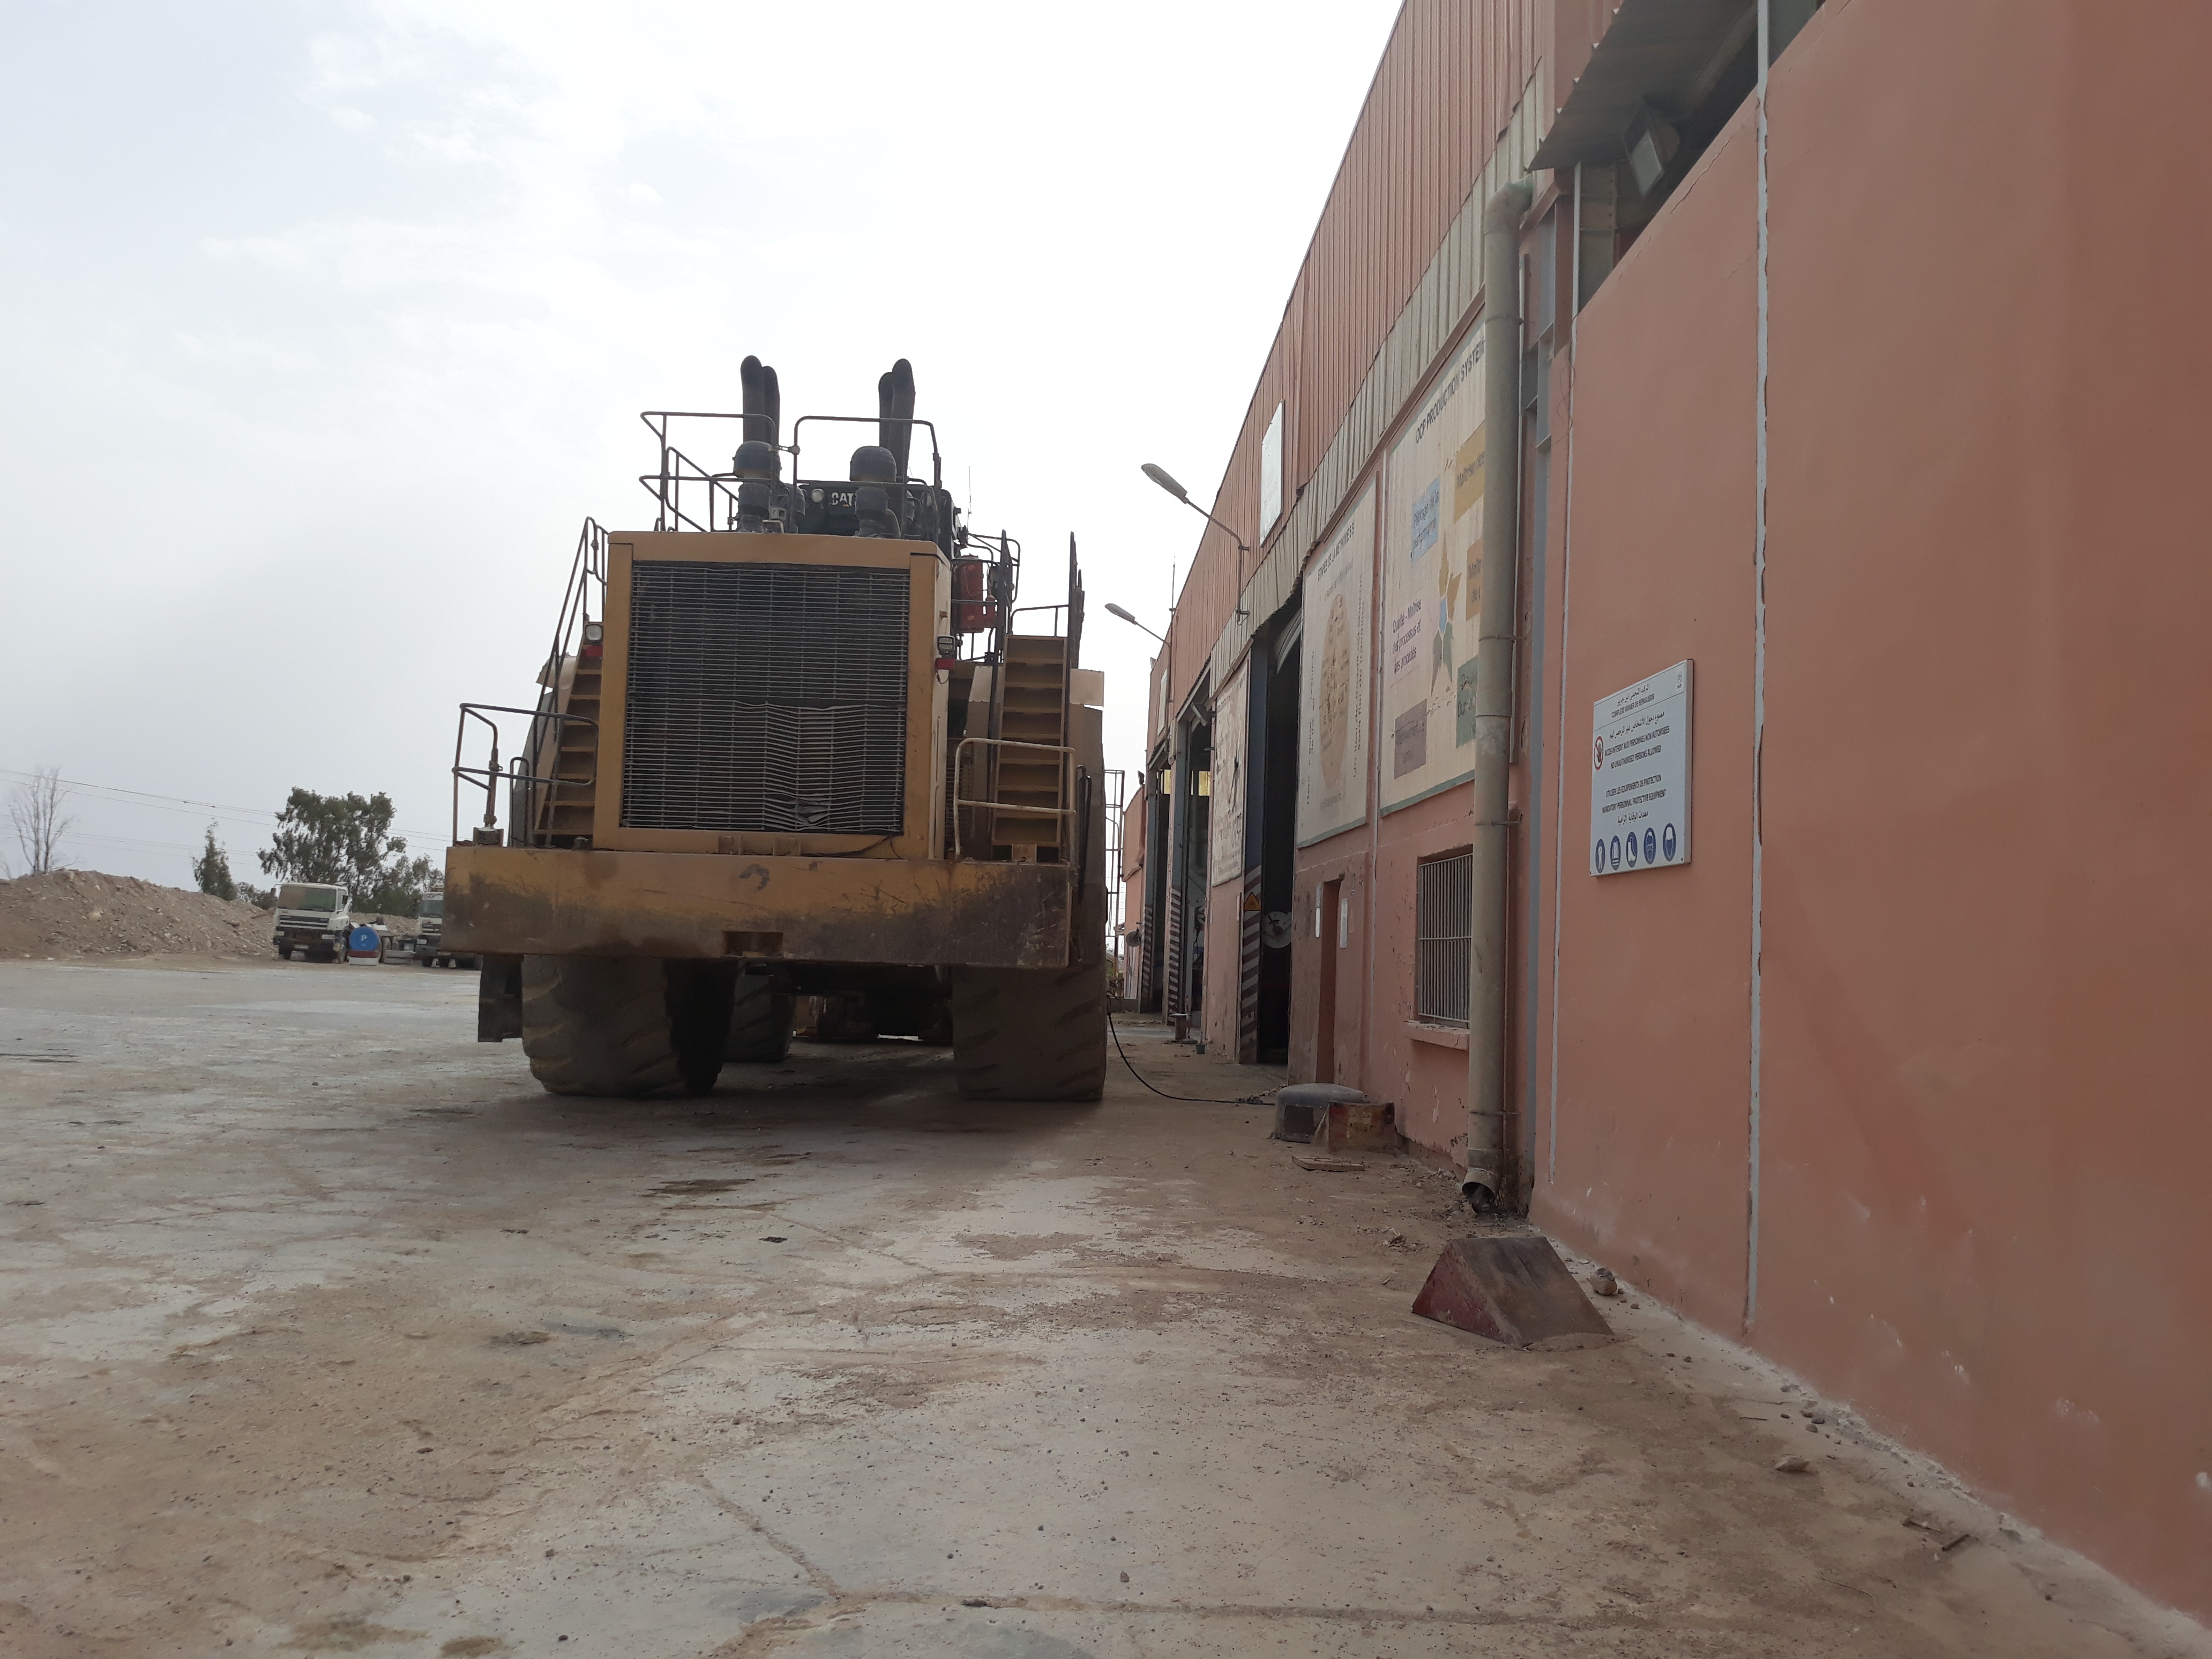chargeuse: (449, 335, 1125, 1154)
